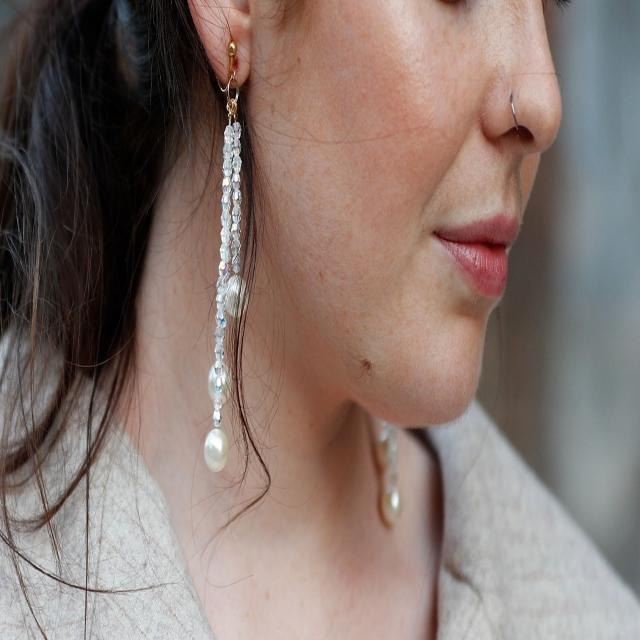Earring: (192, 16, 264, 490), (357, 393, 413, 528)
